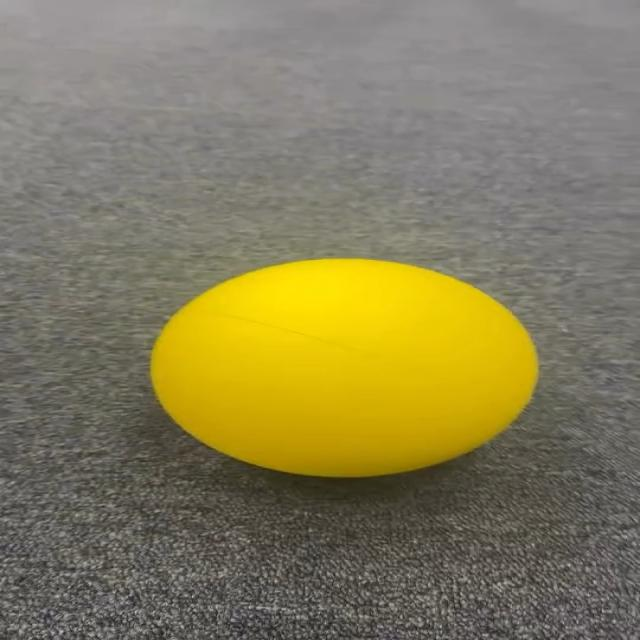Fuels: (147, 254, 534, 473)
